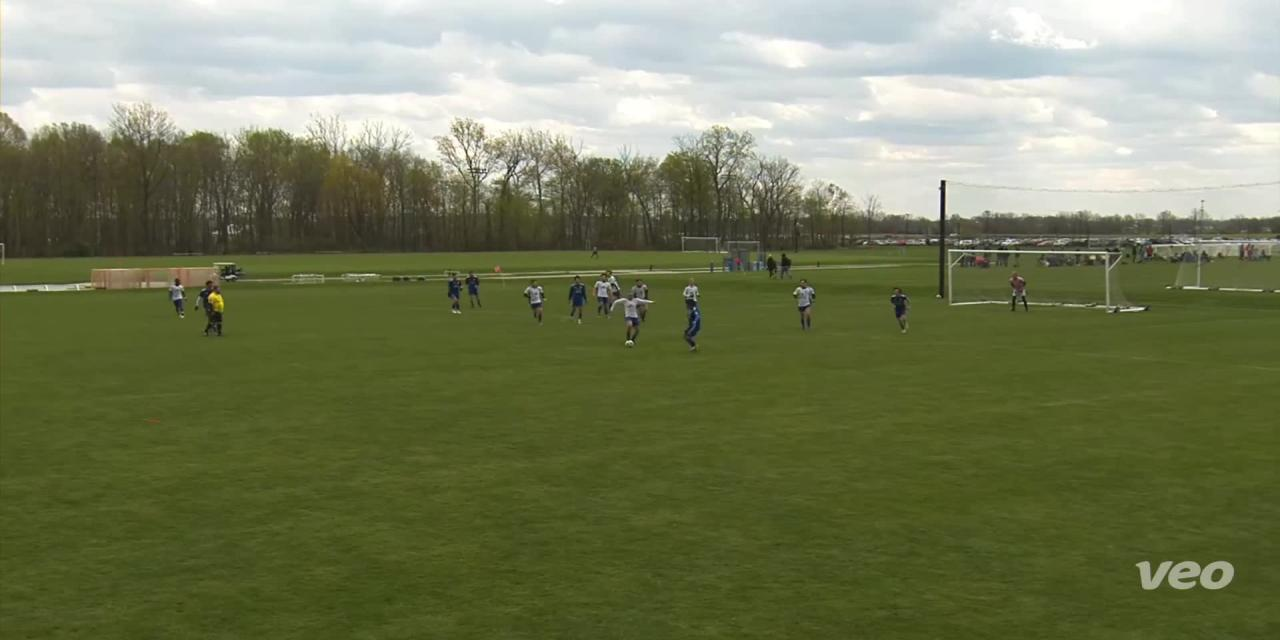goal: (945, 240, 1158, 316)
sports ball: (620, 337, 639, 350)
